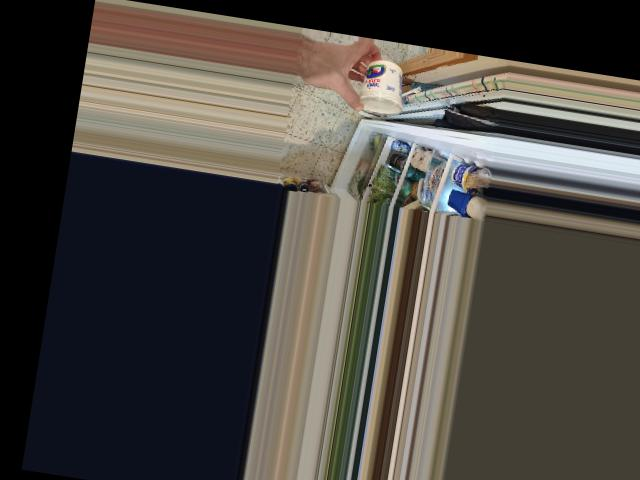cotage: (358, 55, 399, 105)
